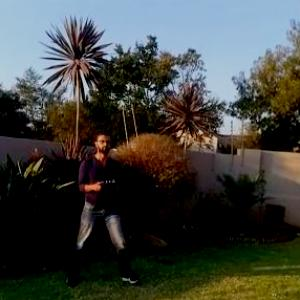follow: (57, 124, 140, 288)
